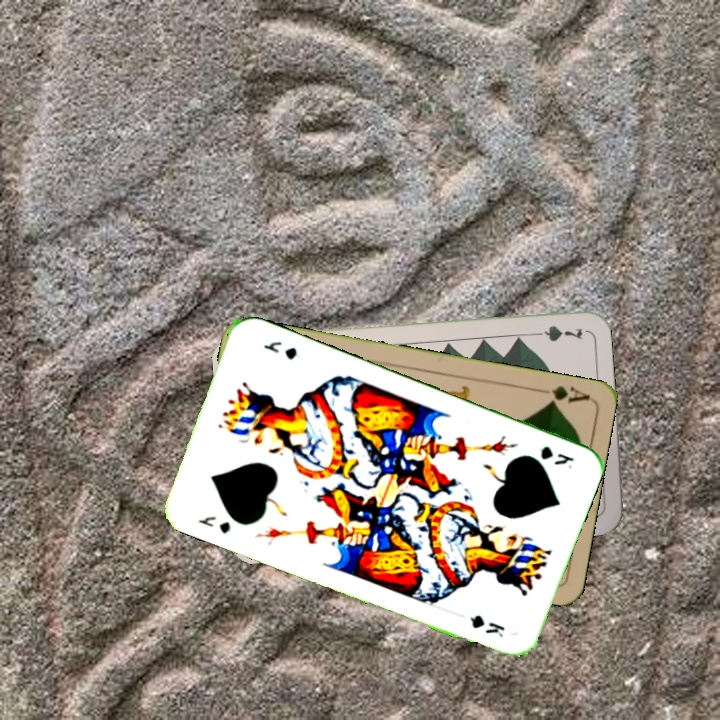G7: (525, 321, 585, 344)
GA: (532, 381, 591, 407)
GK: (536, 442, 576, 472), (194, 512, 233, 536)
